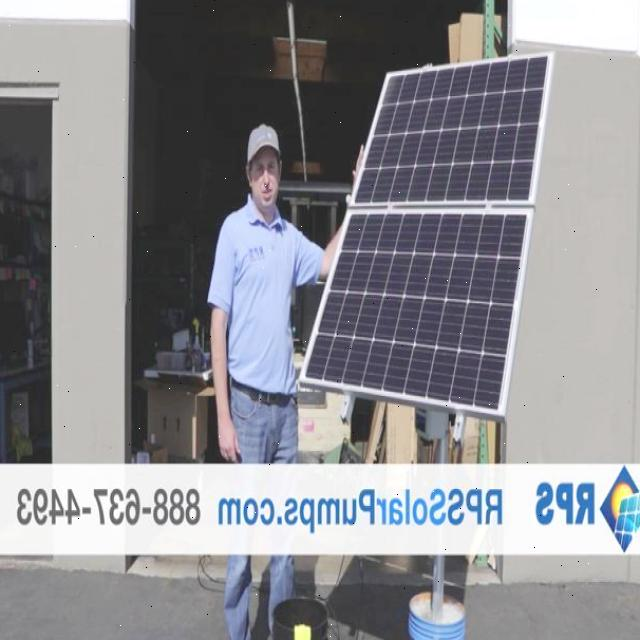Normal Solar Panel: (303, 54, 551, 418)
